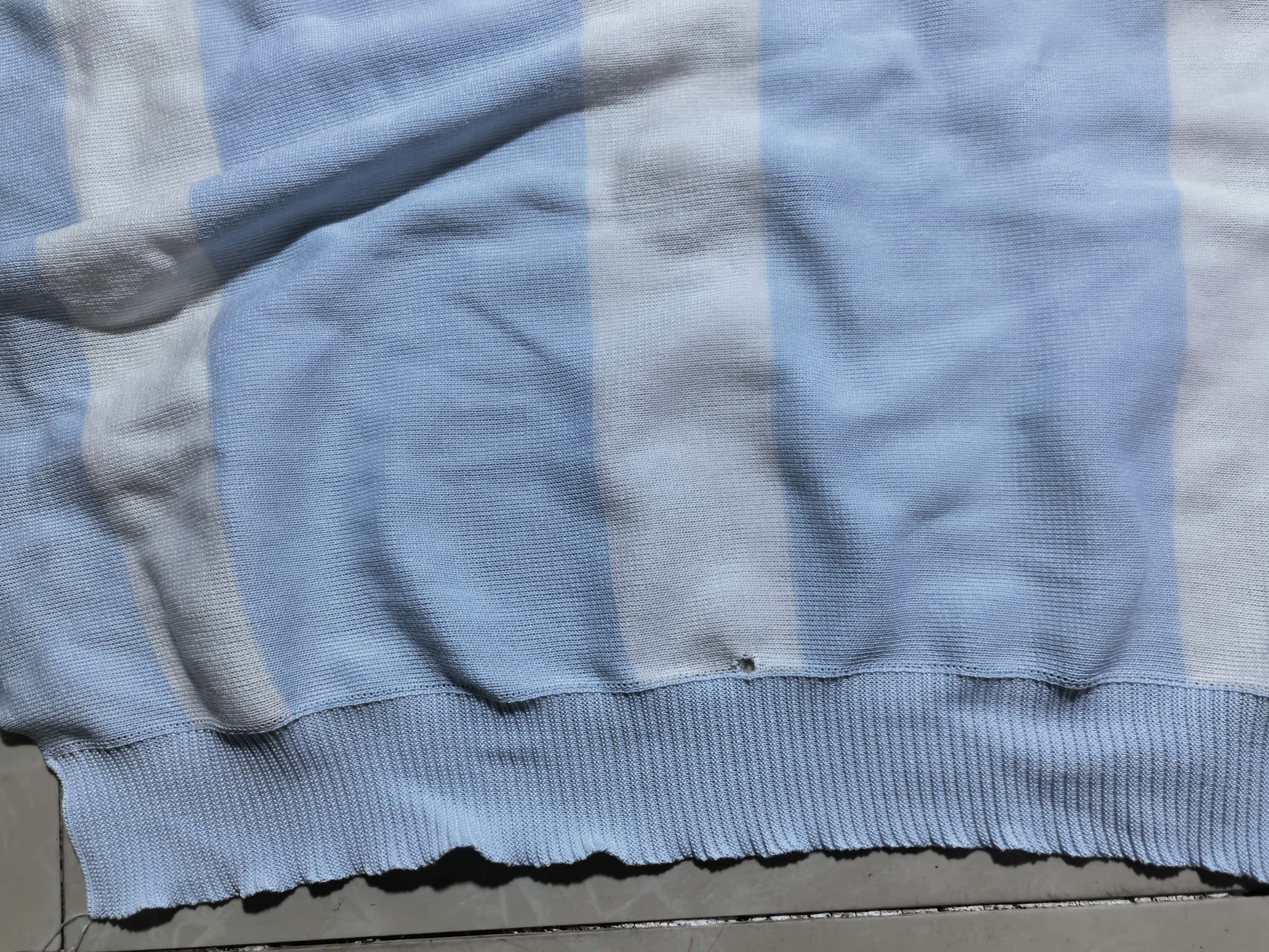hole_1: (730, 644, 765, 681)
